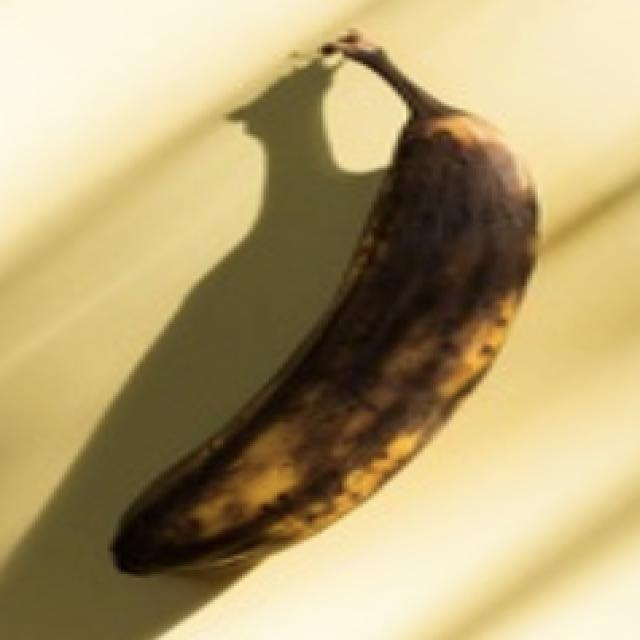Rotten: (95, 10, 546, 607)
